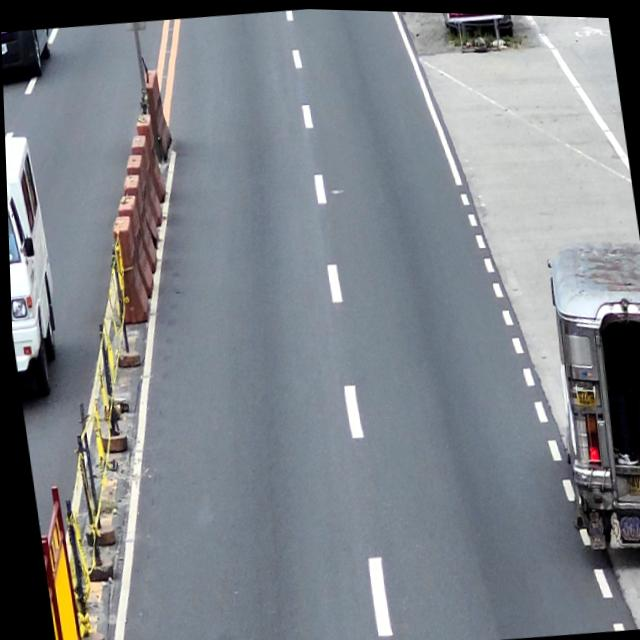Car: (4, 133, 66, 398)
Jeep: (534, 231, 640, 559)
License-Plate: (624, 467, 640, 495)
